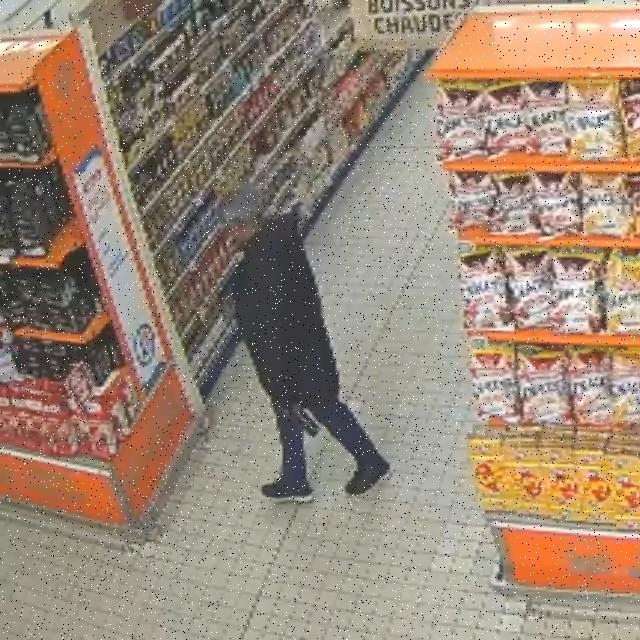article: (290, 403, 322, 439)
person: (219, 184, 389, 502)
